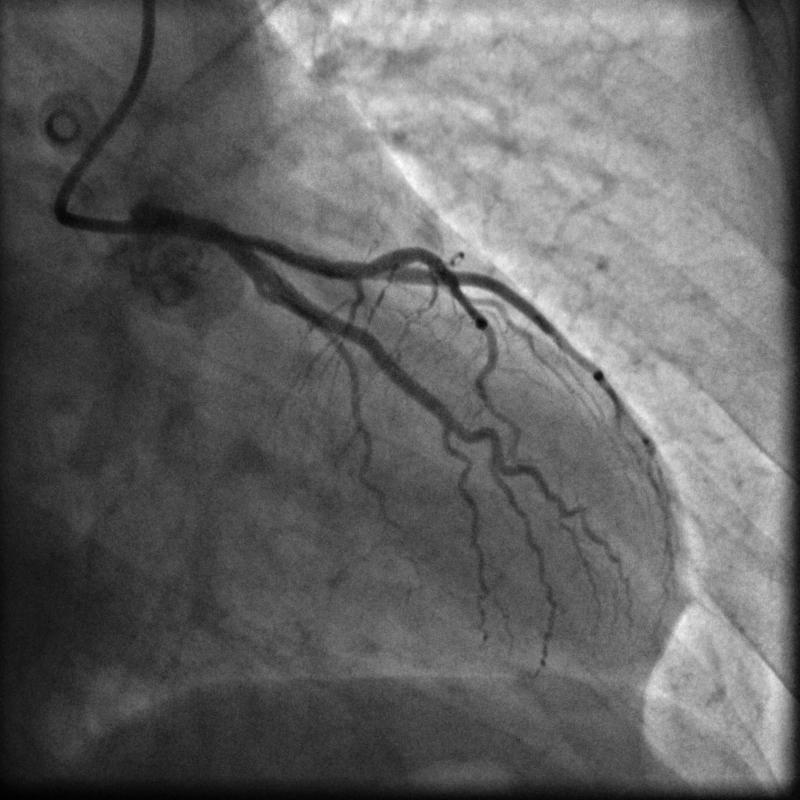Stenosis: (230, 224, 279, 257)
